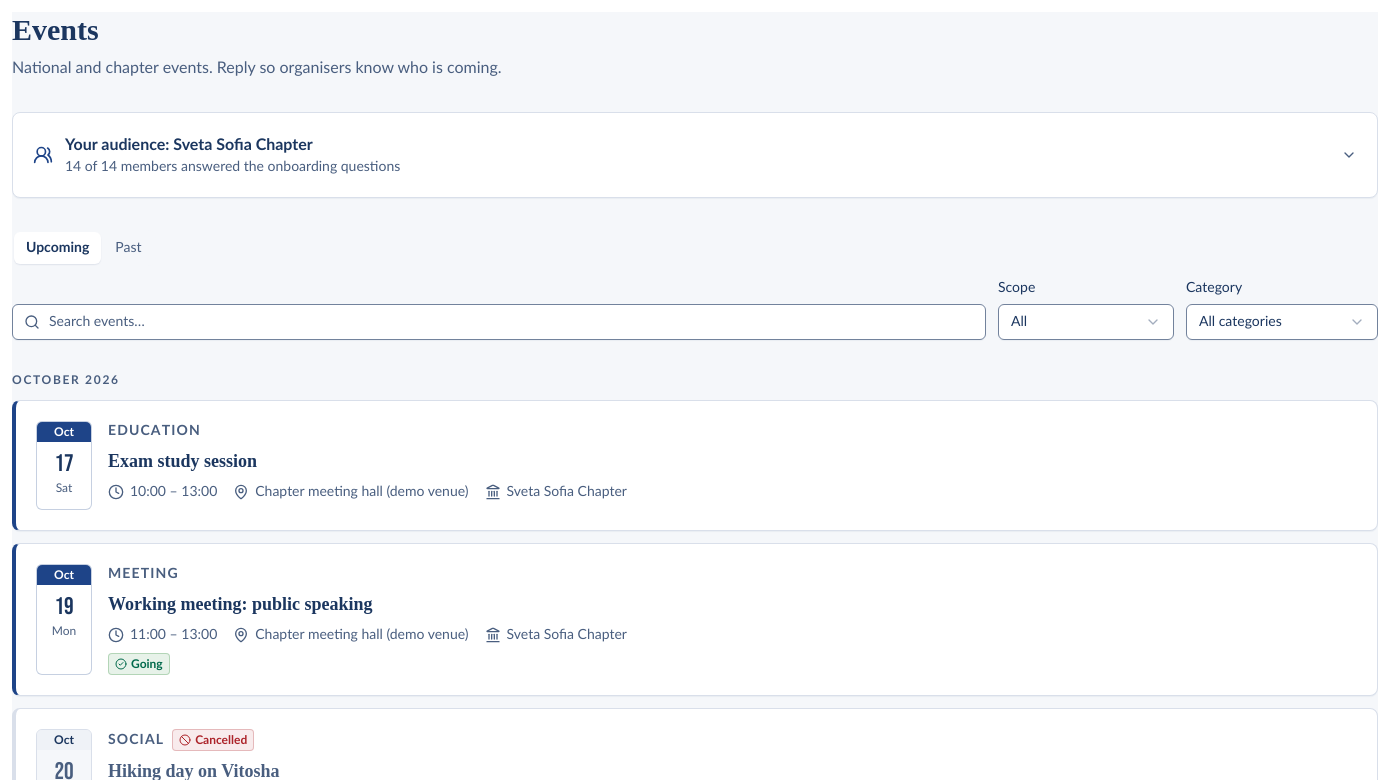
EventsPage › shows chapter planners what their members said, as totals
Expected: the text "14 of 14 members answered the onboarding questions" is shown, x1=65 y1=160 x2=400 y2=174
Click the text "Your audience: Sveta Sofia Chapter": (189, 145) x1=65 y1=137 x2=313 y2=153
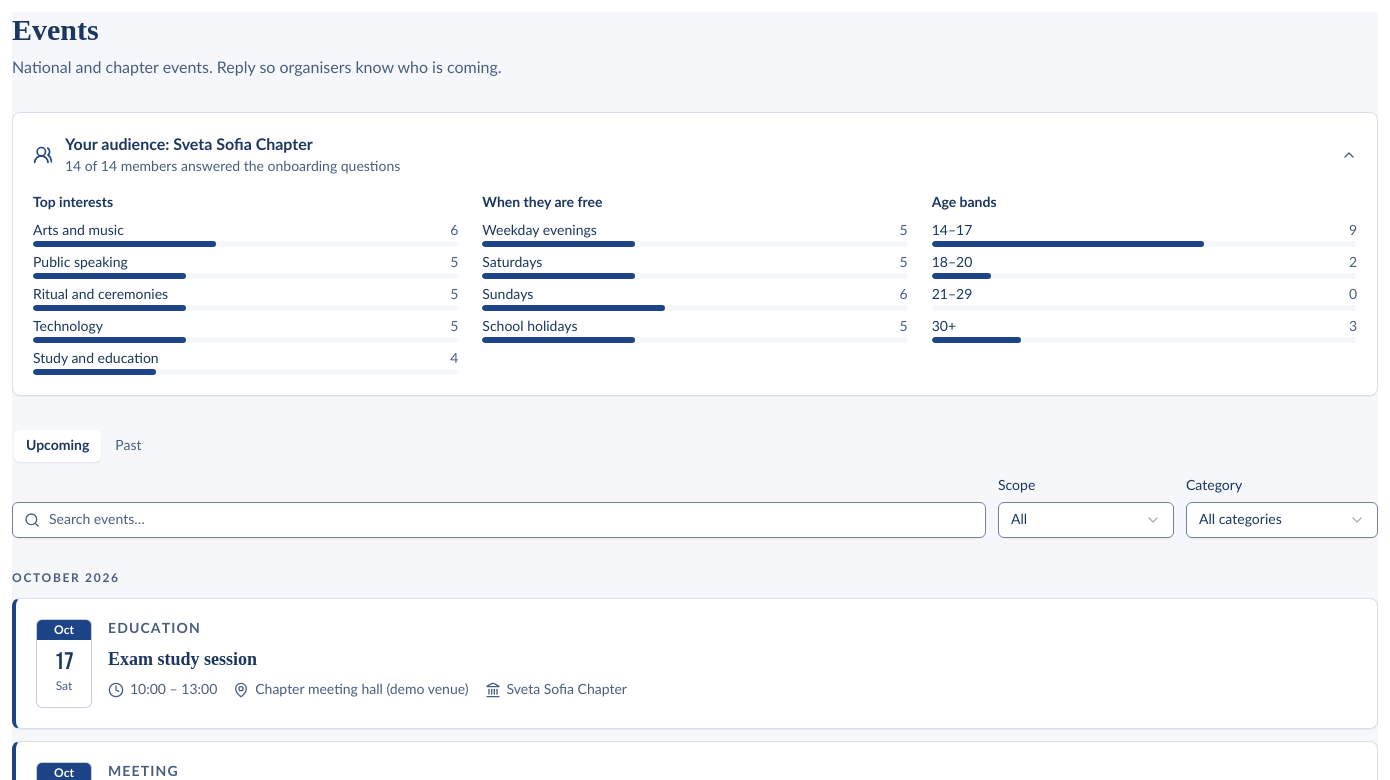
Expected: the heading "Top interests" is shown, x1=33 y1=196 x2=113 y2=210
Expected: the heading "Age bands" is shown, x1=932 y1=196 x2=997 y2=210
